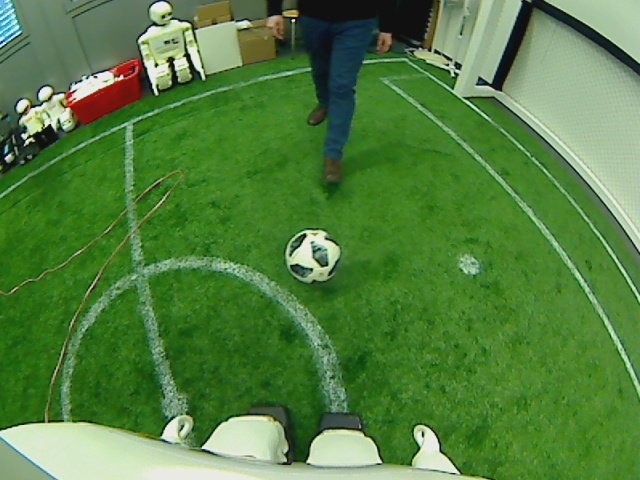ball: (283, 227, 340, 284)
